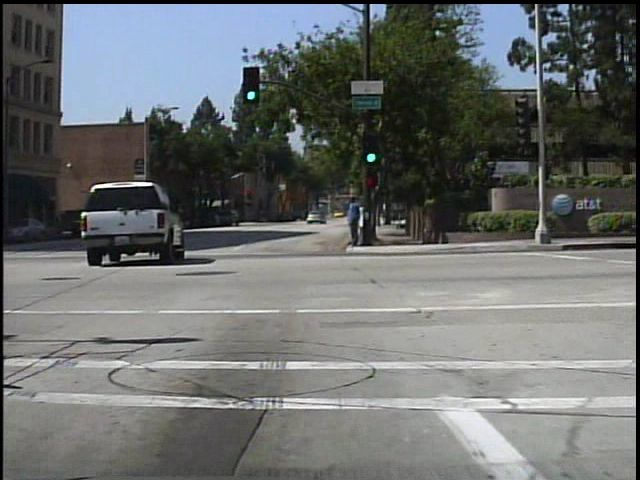person: (343, 193, 363, 249), (351, 195, 369, 246)
